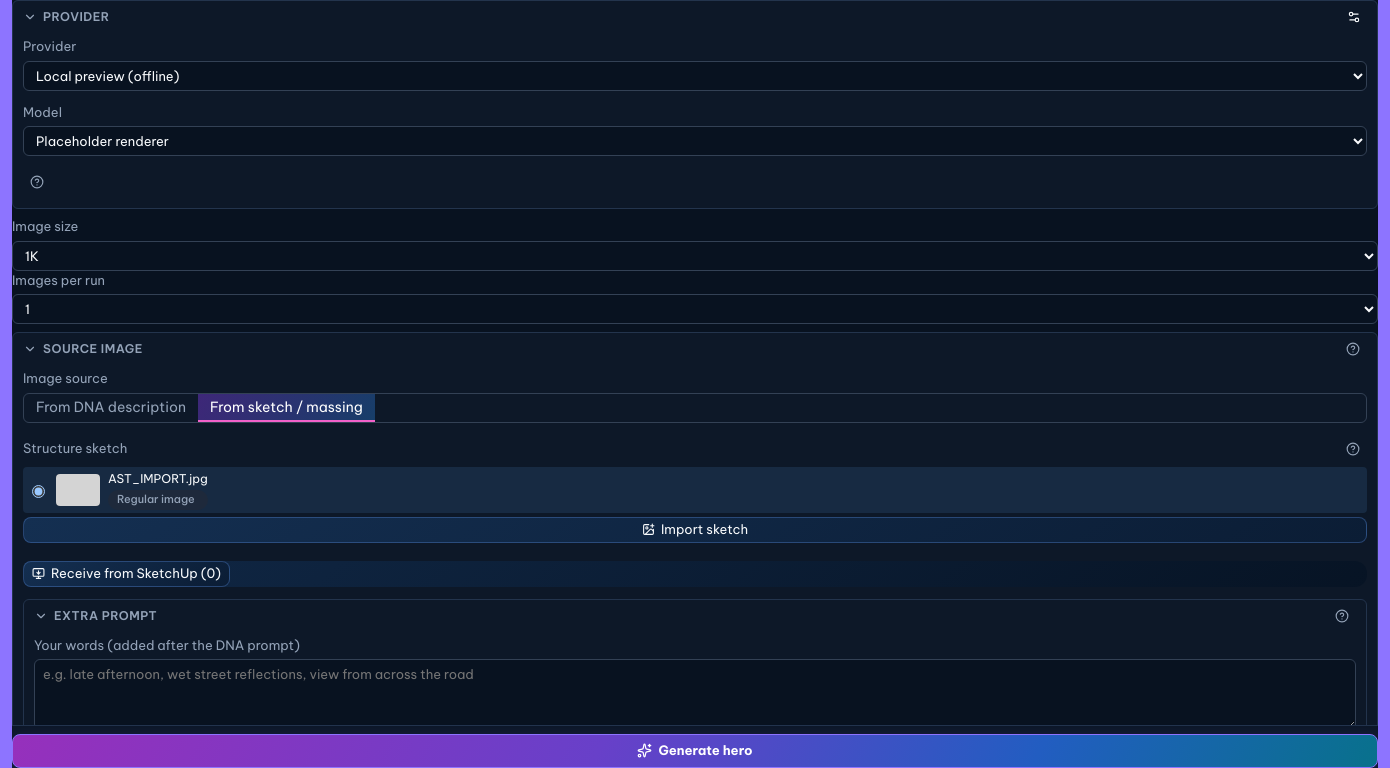
Scenario: keeps source instructions inside help instead of showing long text in the form
Check: the text "Upload a SketchUp" is not shown
Click the button named "Help: Structure sketch".
click(1353, 448)  # box left=1339, top=434, right=1367, bottom=462
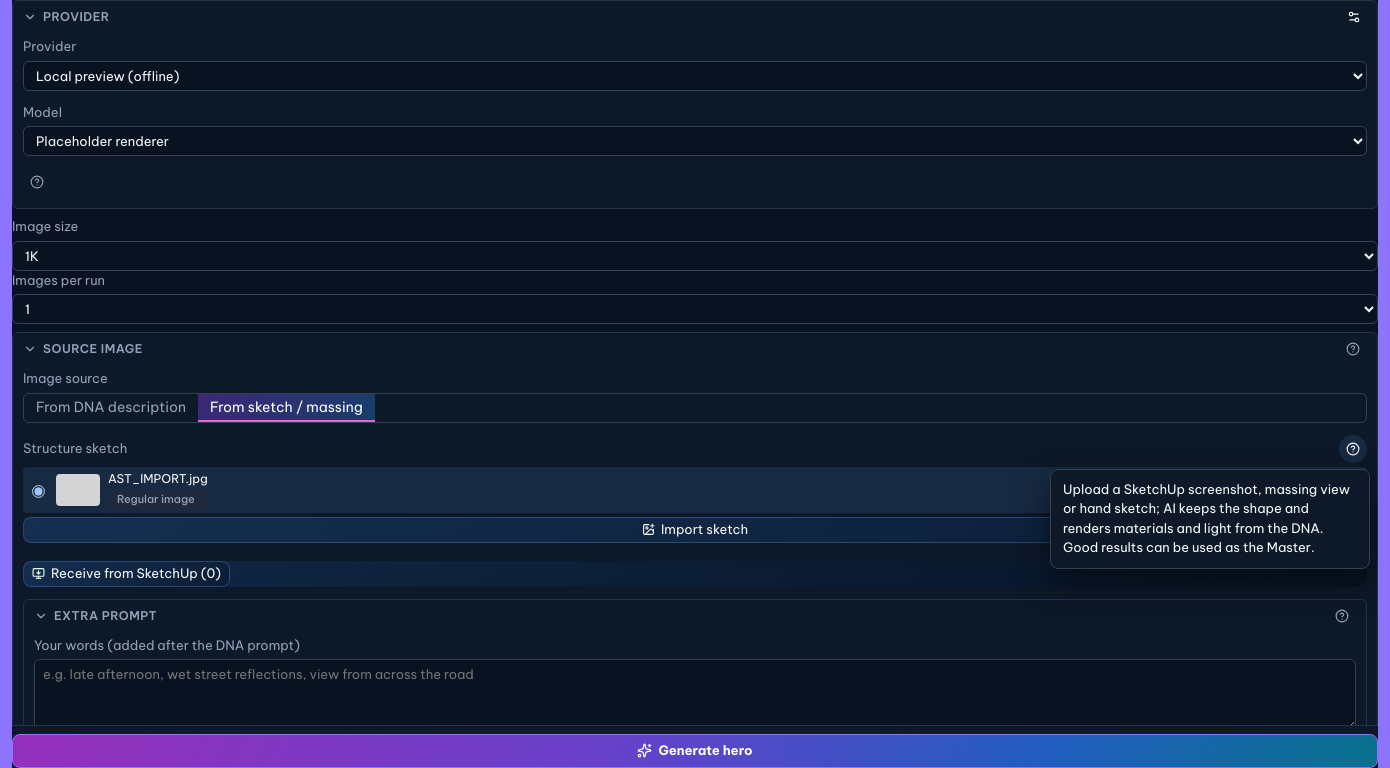
Check: the text "SketchUp" is shown, box left=1063, top=480, right=1350, bottom=555
